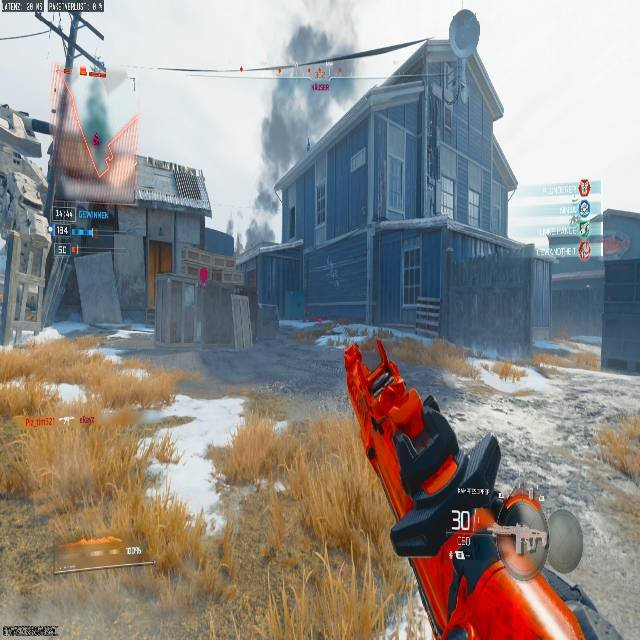head: (493, 500, 548, 573)
player: (444, 500, 605, 639)
